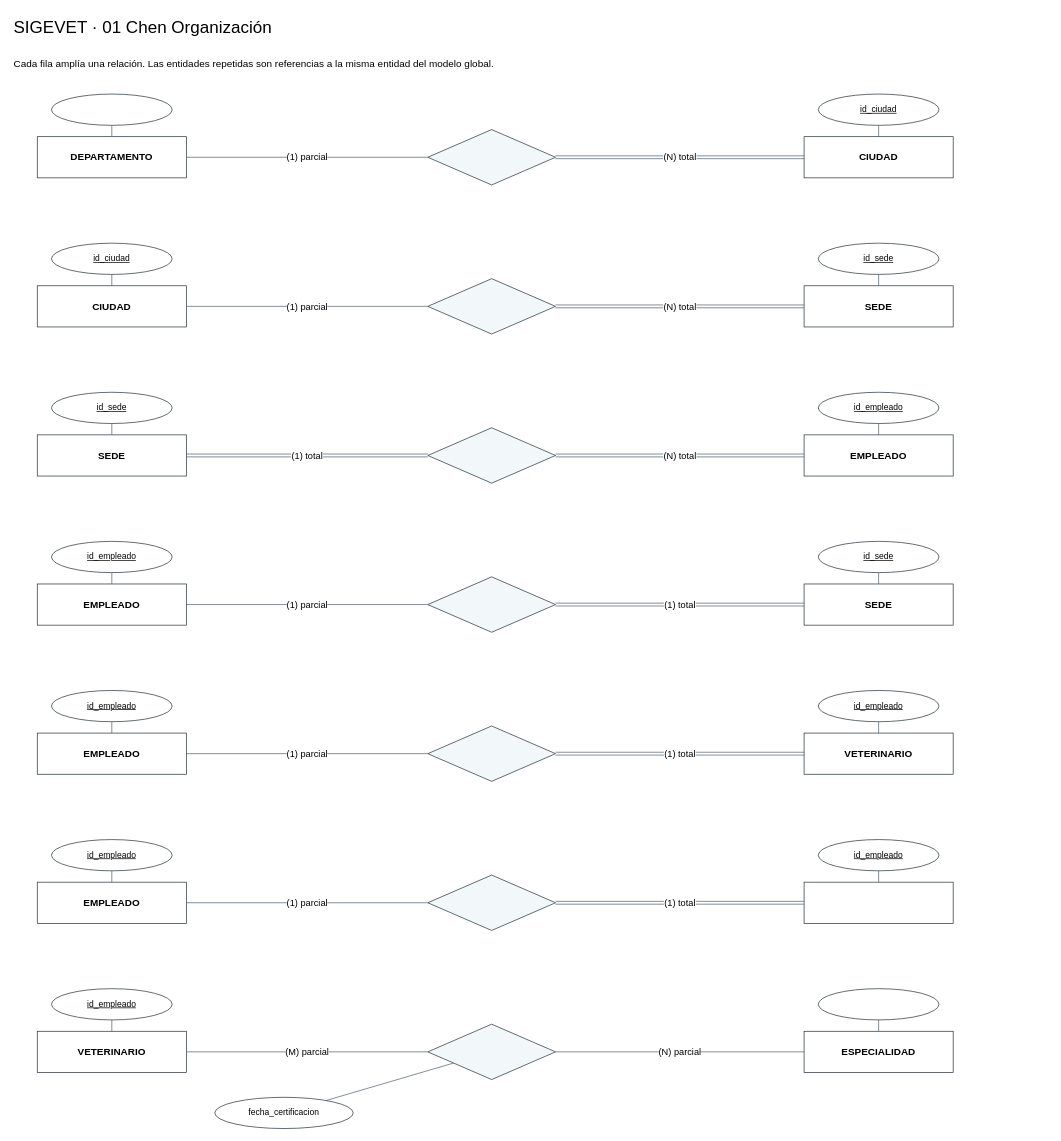
Some shapes in this 1061 by 1141 pixel diagram are drawn without their labels. Here are the shapes that lost their labels. From the top down, the box of each, then its label:
(51, 93, 172, 125): id_departamento
(427, 129, 556, 185): PERTENECE_A
(427, 278, 556, 334): UBICADA_EN
(427, 427, 556, 483): LABORA_EN
(427, 576, 556, 632): DIRIGE
(427, 725, 556, 781): ES_VETERINARIO
(427, 874, 556, 930): ES_AUXILIAR
(803, 881, 953, 923): AUXILIAR
(818, 988, 939, 1020): id_especialidad
(427, 1023, 556, 1080): CERTIFICADO_EN
